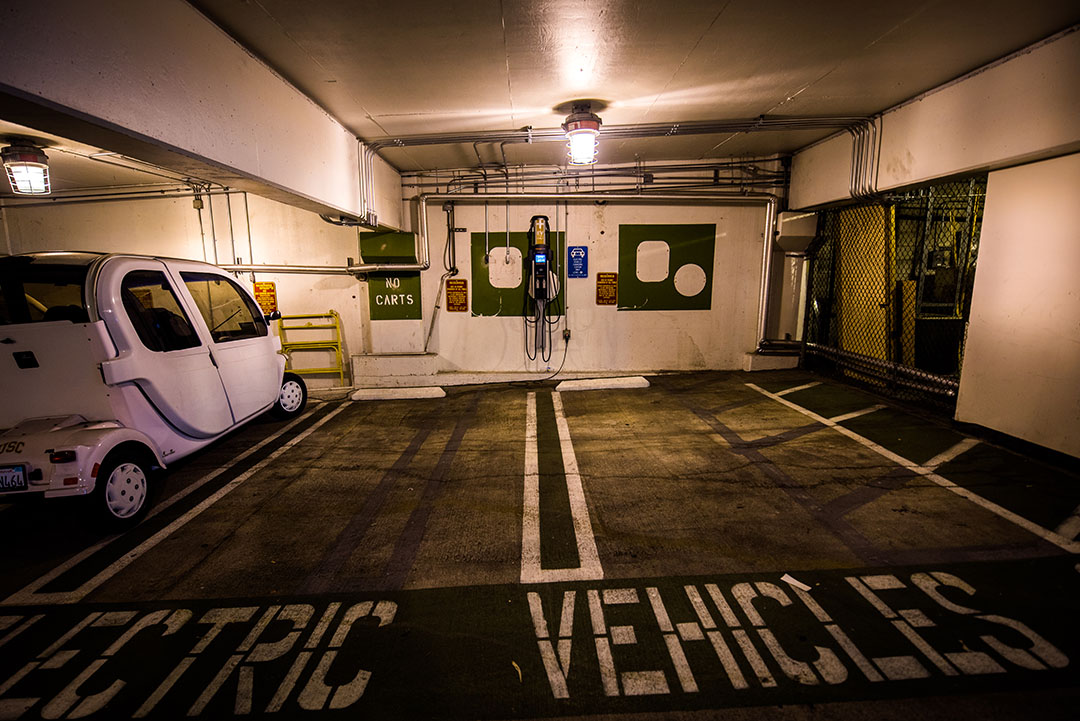empyt_space: (513, 369, 1077, 589), (68, 376, 556, 619)
